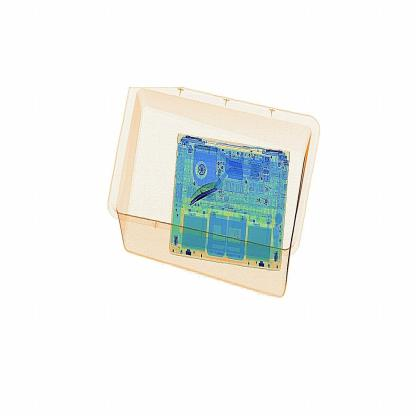pliers: (187, 175, 229, 206)
